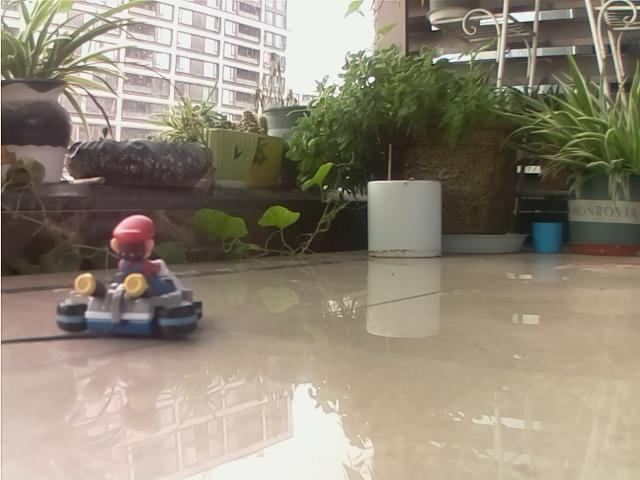mario: (45, 206, 230, 356)
